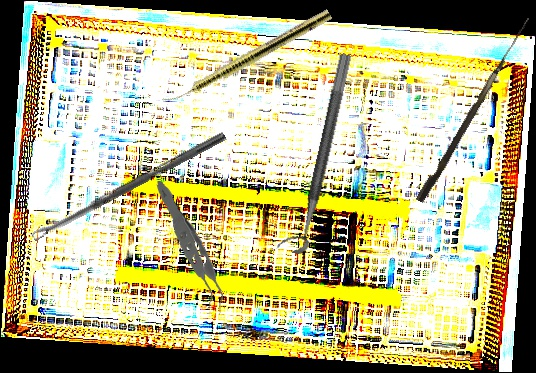Fixation Ring: (276, 49, 353, 256)
Handpiece: (161, 6, 333, 111)
Hook Surgical: (415, 12, 530, 206)
Surgical Spoon: (30, 130, 227, 242)
Tissue Forceps: (145, 180, 233, 318)
